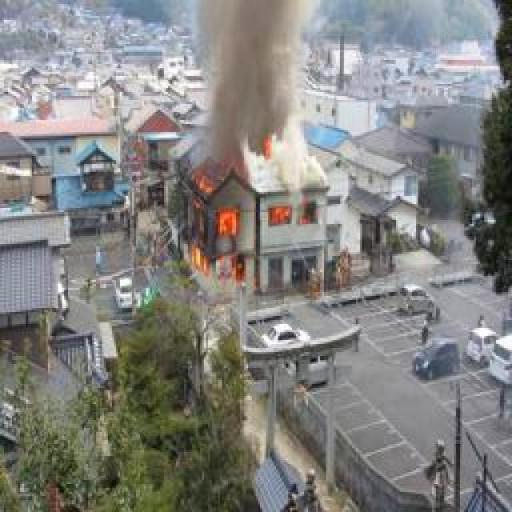smoke: (186, 180, 246, 284), (266, 202, 300, 226)
